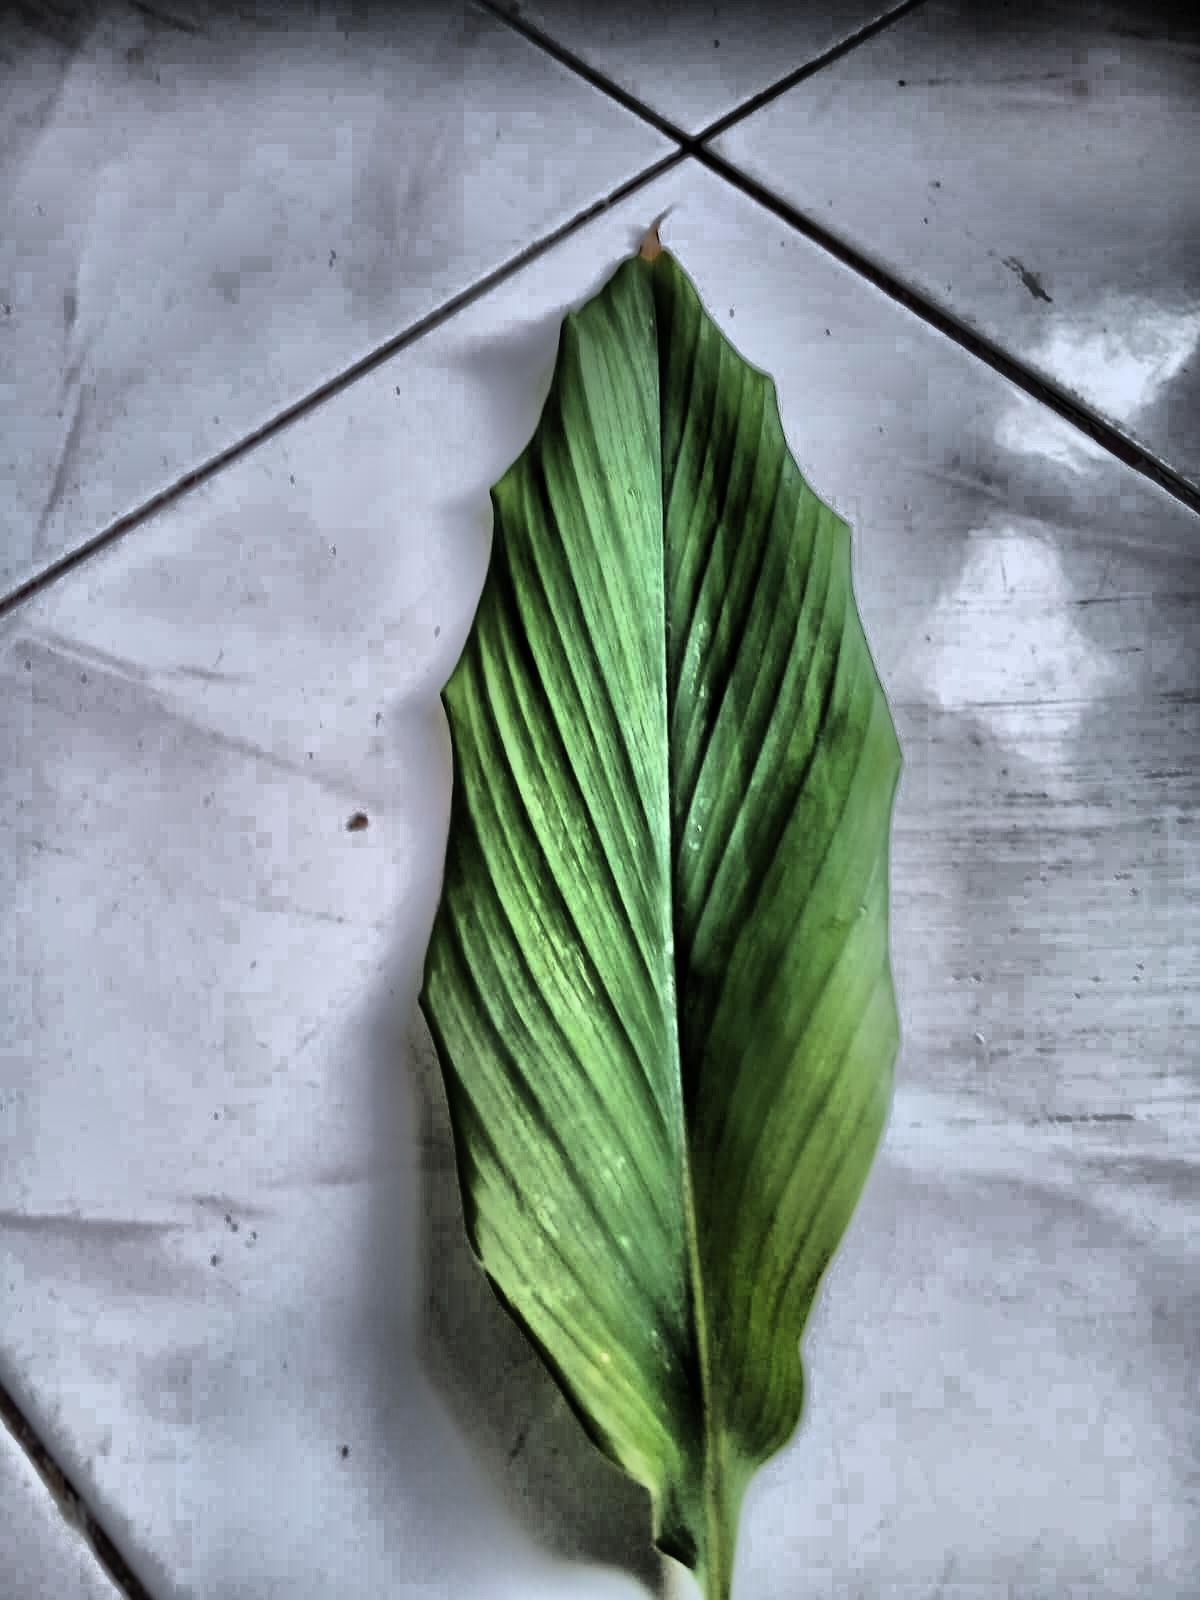daun kunyit: (421, 249, 901, 1599)
